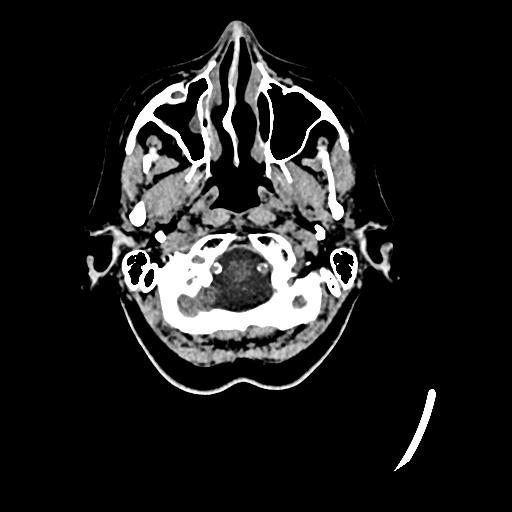Normal_Brain: (77, 23, 393, 395)
